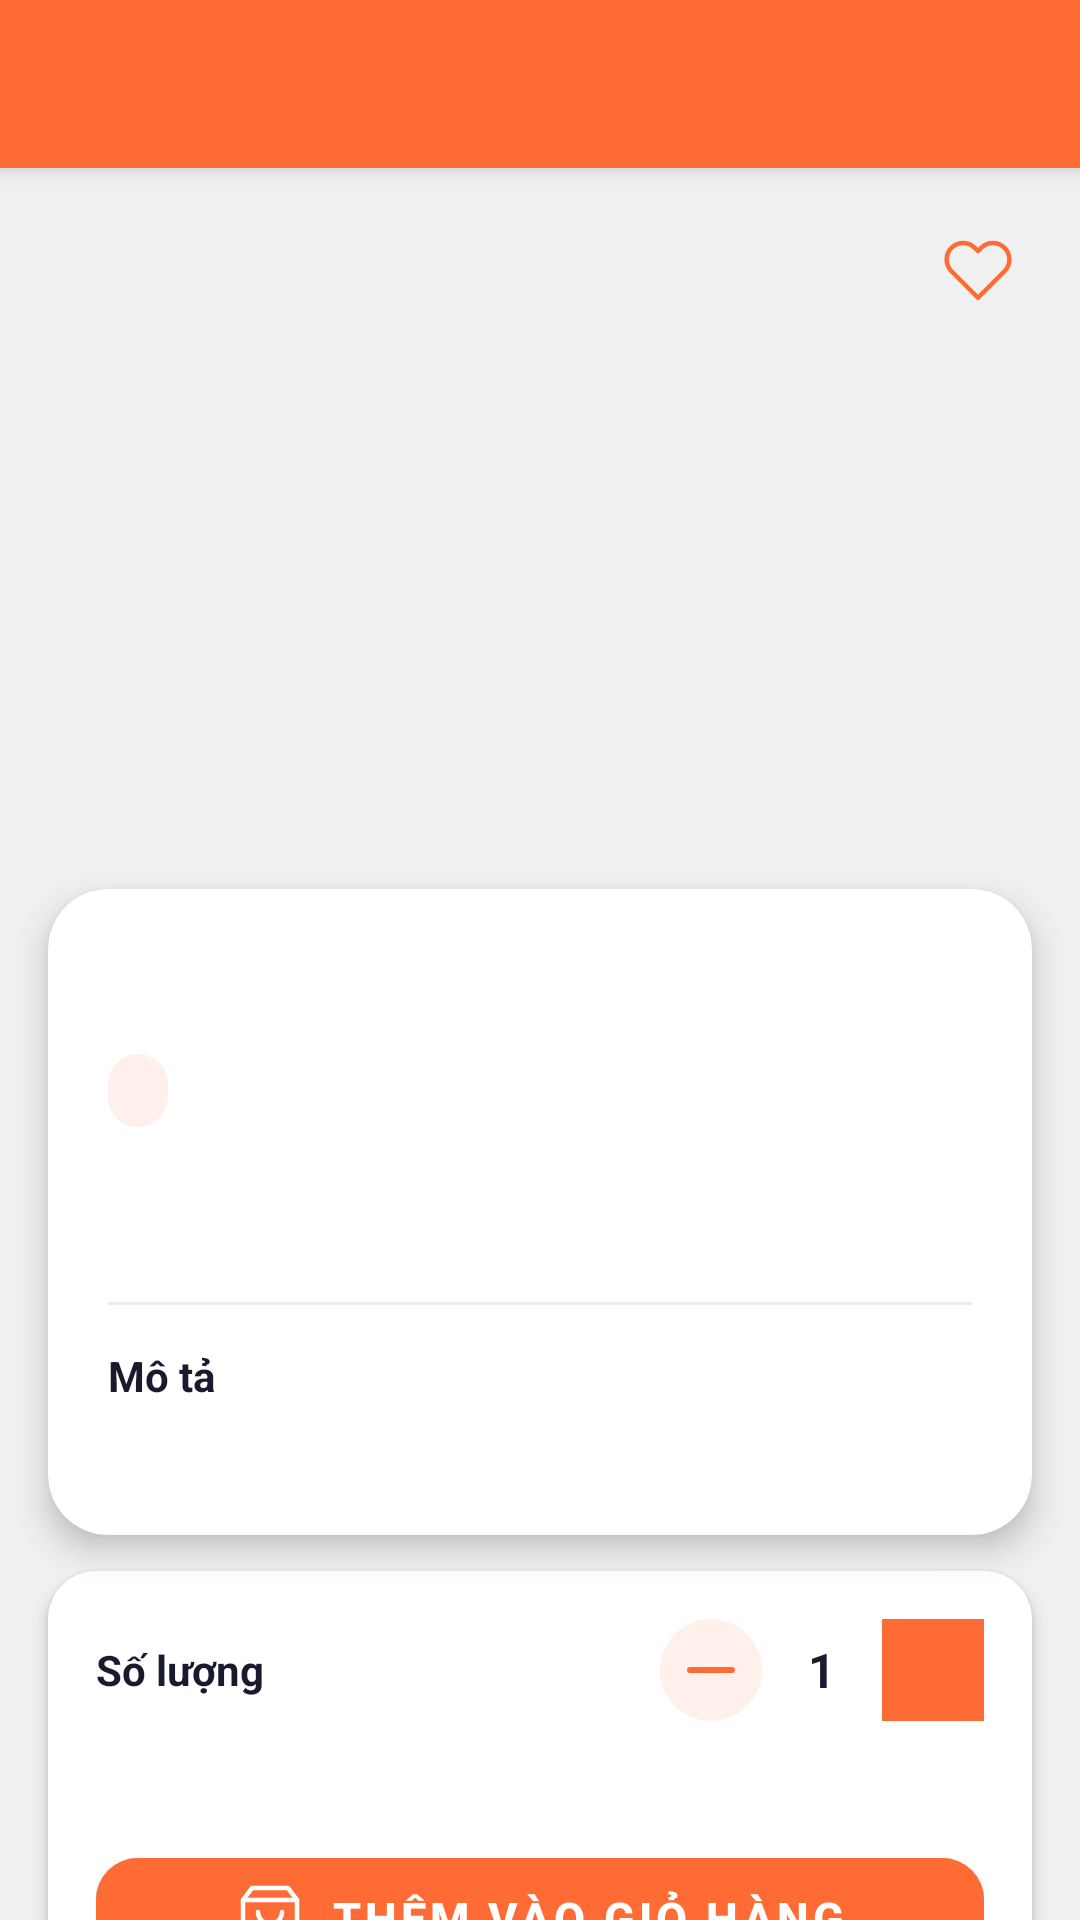

Locate icon controls on the screen. Image size 1080x1920, boxes as (x1, y1, x2, y2).
heart: (944, 240, 1012, 300)
